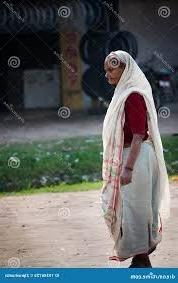Human: (89, 47, 163, 271)
